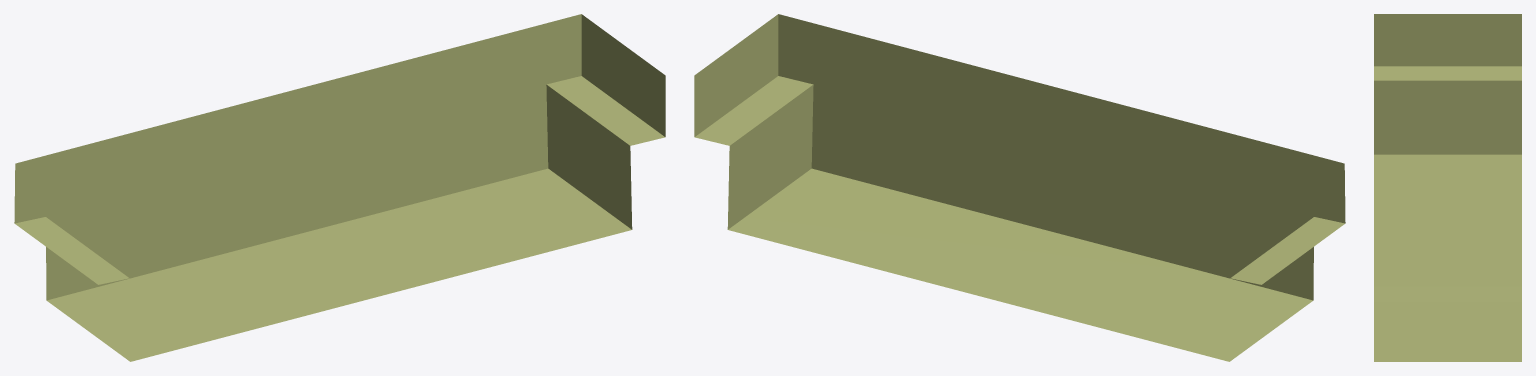
The picture shows the model from 3 angles, left to right: view 1: azimuth 30°, elevation 25°; view 2: azimuth 150°, elevation 25°; view 3: azimuth 270°, elevation 25°; orthographic projection. The views are drawn at different scales.
Visible parts, largest first — view 1: 0_3_1_3_0_3_0_0_0; view 2: 0_3_1_3_0_3_0_0_0; view 3: 0_3_1_3_0_3_0_0_0.
Part boxes in pixels (<box>): 0_3_1_3_0_3_0_0_0: <box>14,14,665,361</box>; 0_3_1_3_0_3_0_0_0: <box>694,14,1345,361</box>; 0_3_1_3_0_3_0_0_0: <box>1374,14,1521,361</box>.
Size of the model in its own units: 35.11 by 9.23 by 9.
